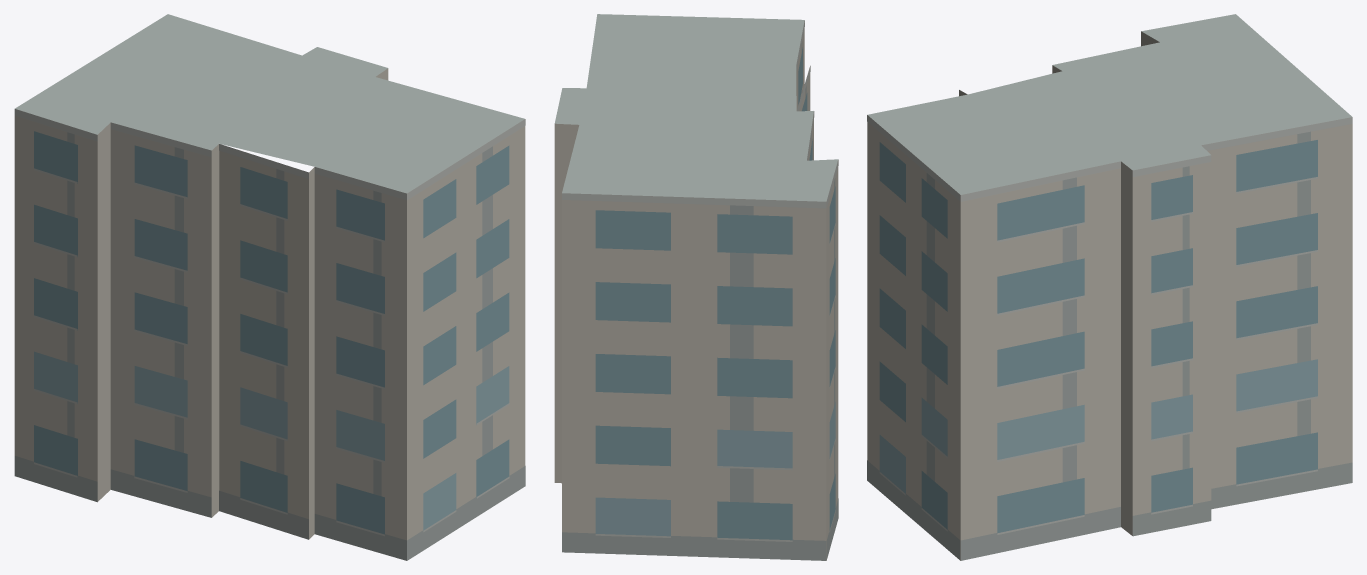
The model's file is survey-upis-32679467.glb.
3 renders of one model, left to right at view 1: azimuth 30°, elevation 25°; view 2: azimuth 150°, elevation 25°; view 3: azimuth 270°, elevation 25°, orthographic. The views are drawn at different scales.
Parts seen in each view (by area): view 1: survey-upis-32679467.tmp; view 2: survey-upis-32679467.tmp; view 3: survey-upis-32679467.tmp.
Boxes of the visible parts, x1,y1,x2,y2 form: survey-upis-32679467.tmp: (14,14,525,560); survey-upis-32679467.tmp: (554,14,838,560); survey-upis-32679467.tmp: (867,14,1352,560).
Bounding box in the file's own units: 13.92 × 13.1 × 15.76.
